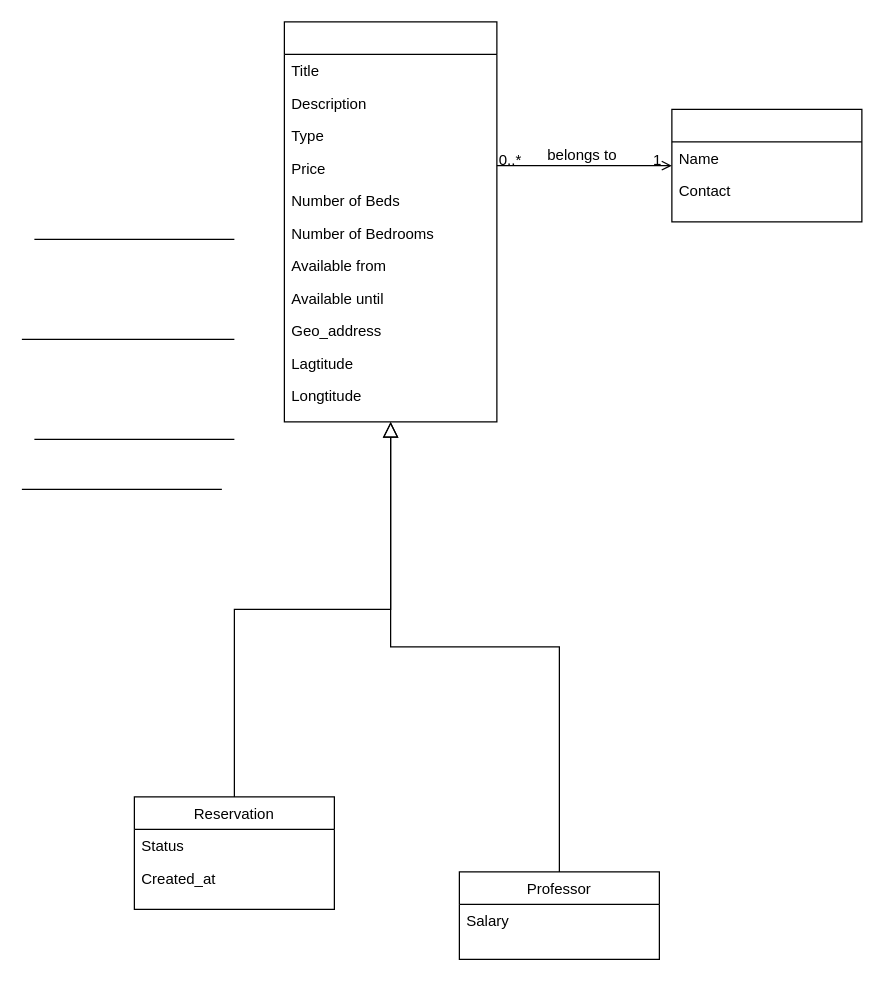
Image size: 884x981. Some labels were removed from this diagram. The box of each missing label's shape, as (x1, y1, x2, y2) in pixels:
Accommodation: (283, 21, 497, 422)
Owner: (671, 108, 862, 222)
